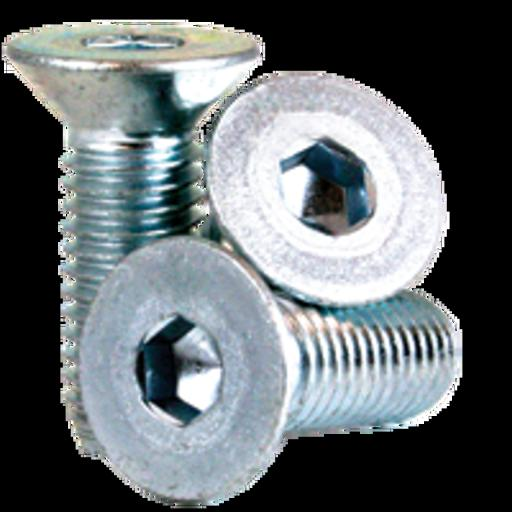Hex-Allen: (79, 233, 289, 501), (213, 73, 445, 302)
